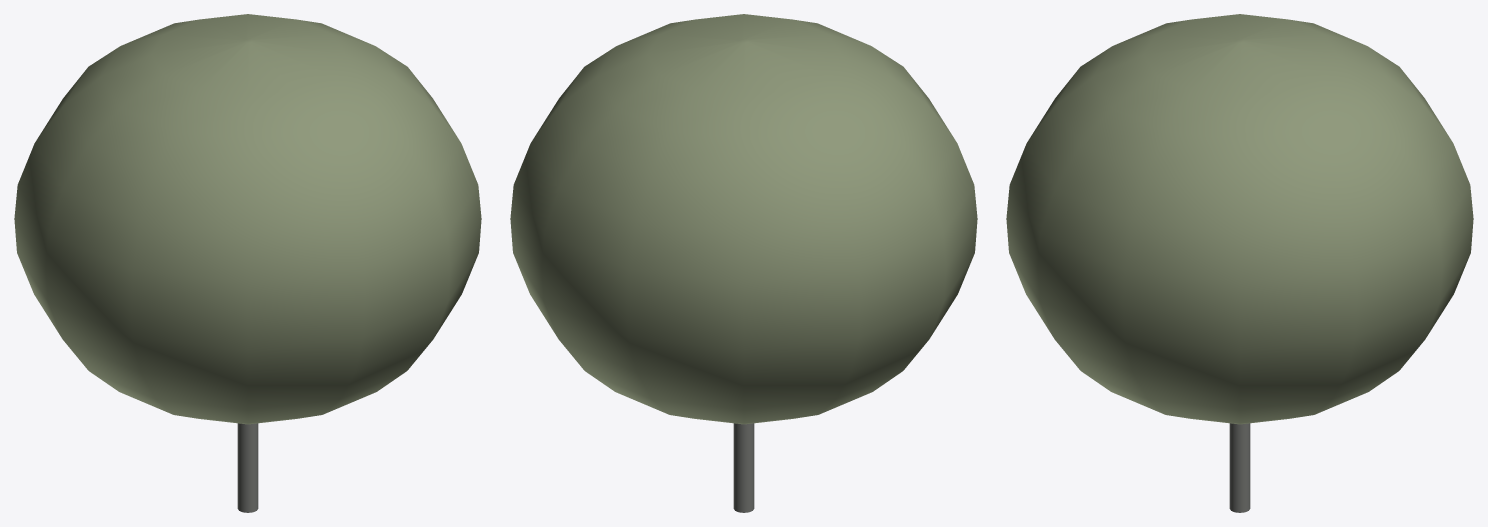
Rendered from California_Walnut_Analytical_0.obj.
3 views of the same model, side by side, from view 1: azimuth 30°, elevation 25°; view 2: azimuth 150°, elevation 25°; view 3: azimuth 270°, elevation 25° (orthographic).
Visible parts, largest first — view 1: AnalyticalCrown, AnalyticalTrunk; view 2: AnalyticalCrown, AnalyticalTrunk; view 3: AnalyticalCrown, AnalyticalTrunk.
Boxes of the visible parts, x1=… form: AnalyticalCrown: x1=14, y1=14, x2=481, y2=424; AnalyticalTrunk: x1=237, y1=423, x2=258, y2=512; AnalyticalCrown: x1=510, y1=14, x2=977, y2=424; AnalyticalTrunk: x1=733, y1=423, x2=754, y2=512; AnalyticalCrown: x1=1006, y1=14, x2=1473, y2=424; AnalyticalTrunk: x1=1229, y1=423, x2=1250, y2=512.
Size of the model in its own units: 18.12 by 20 by 18.12.
